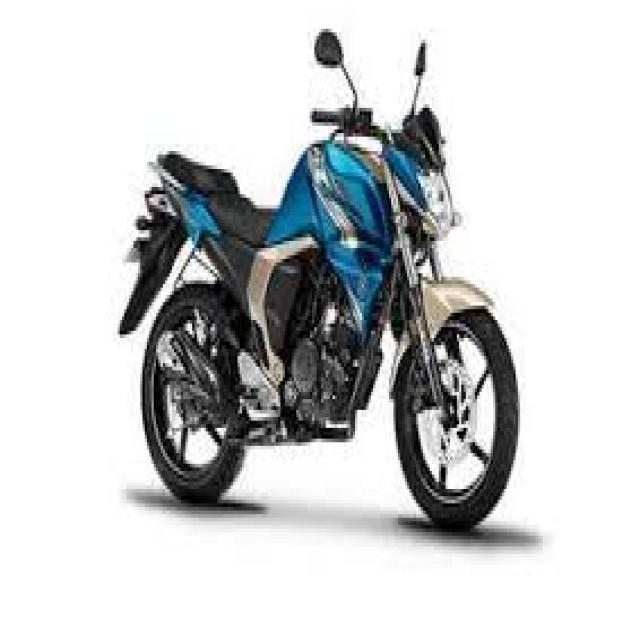bike: (92, 61, 524, 536)
